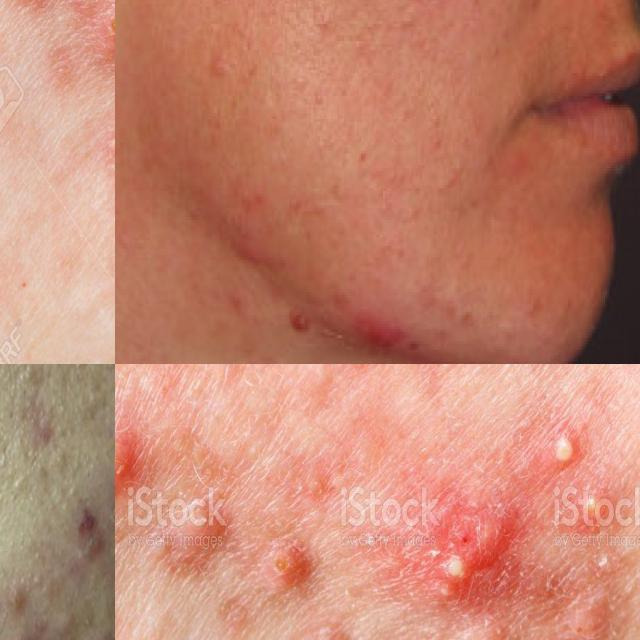acne_scars: (74, 496, 103, 557)
crystanlline: (420, 495, 519, 623)
cystic: (156, 475, 238, 587), (273, 521, 321, 605), (115, 368, 135, 522), (567, 594, 625, 640)
pustule: (558, 479, 626, 547), (538, 419, 592, 482)
